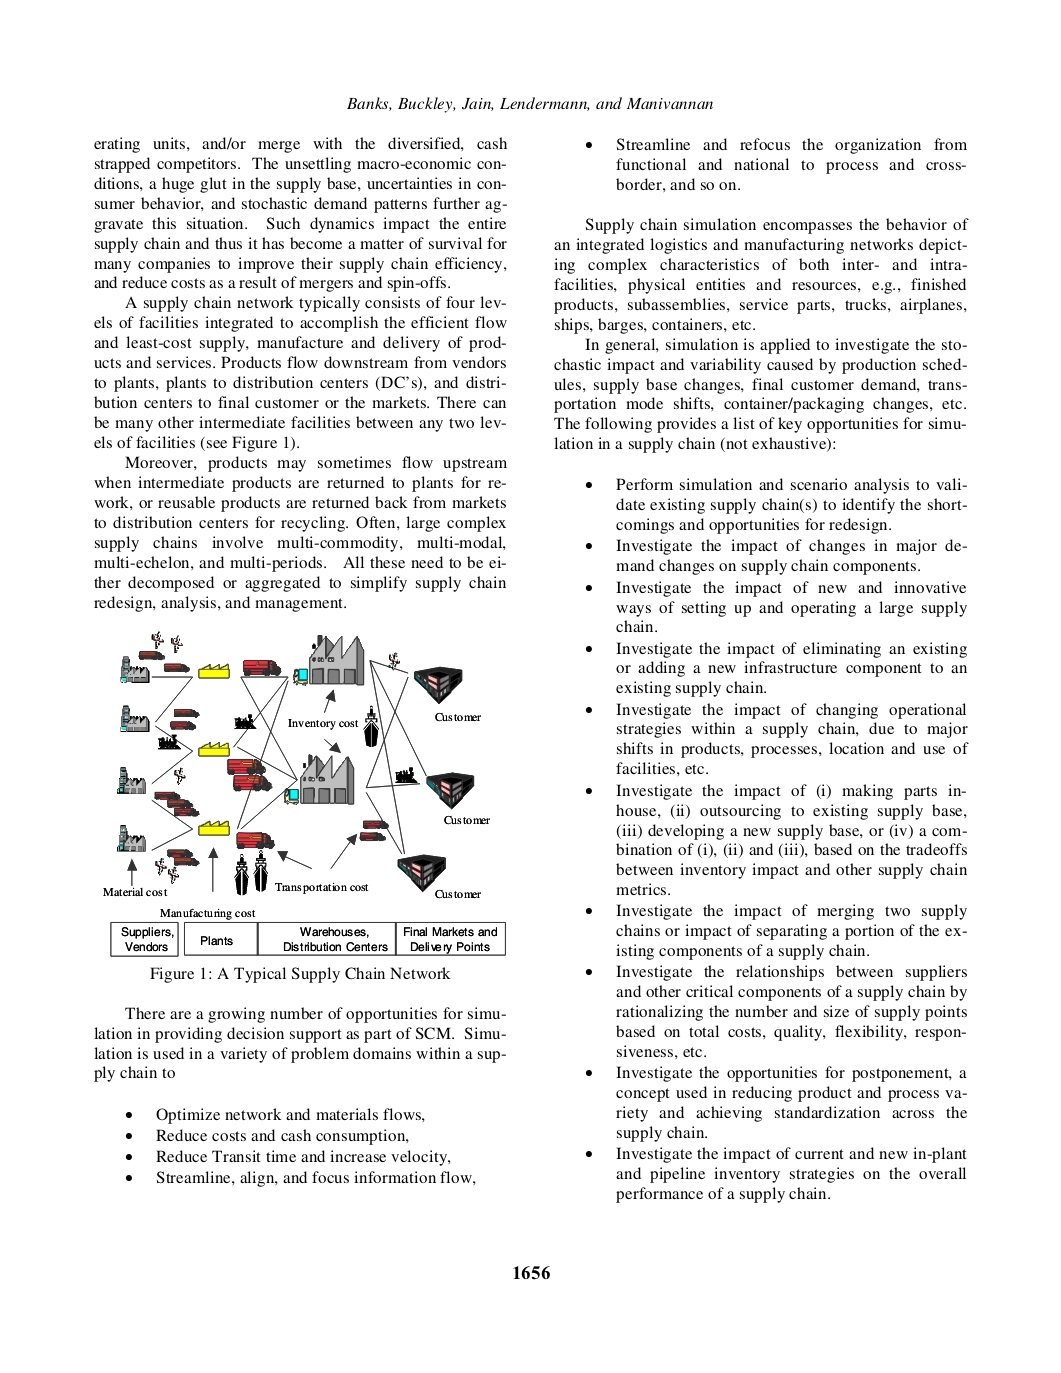figure: (103, 630, 489, 899), (110, 907, 505, 957)
